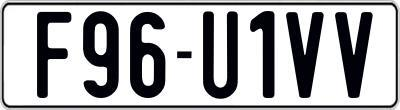1: (248, 10, 273, 98)
6: (129, 9, 169, 100)
9: (82, 10, 121, 102)
F: (36, 12, 73, 102)
U: (203, 8, 239, 97)
V: (285, 9, 324, 100), (334, 10, 374, 98)
